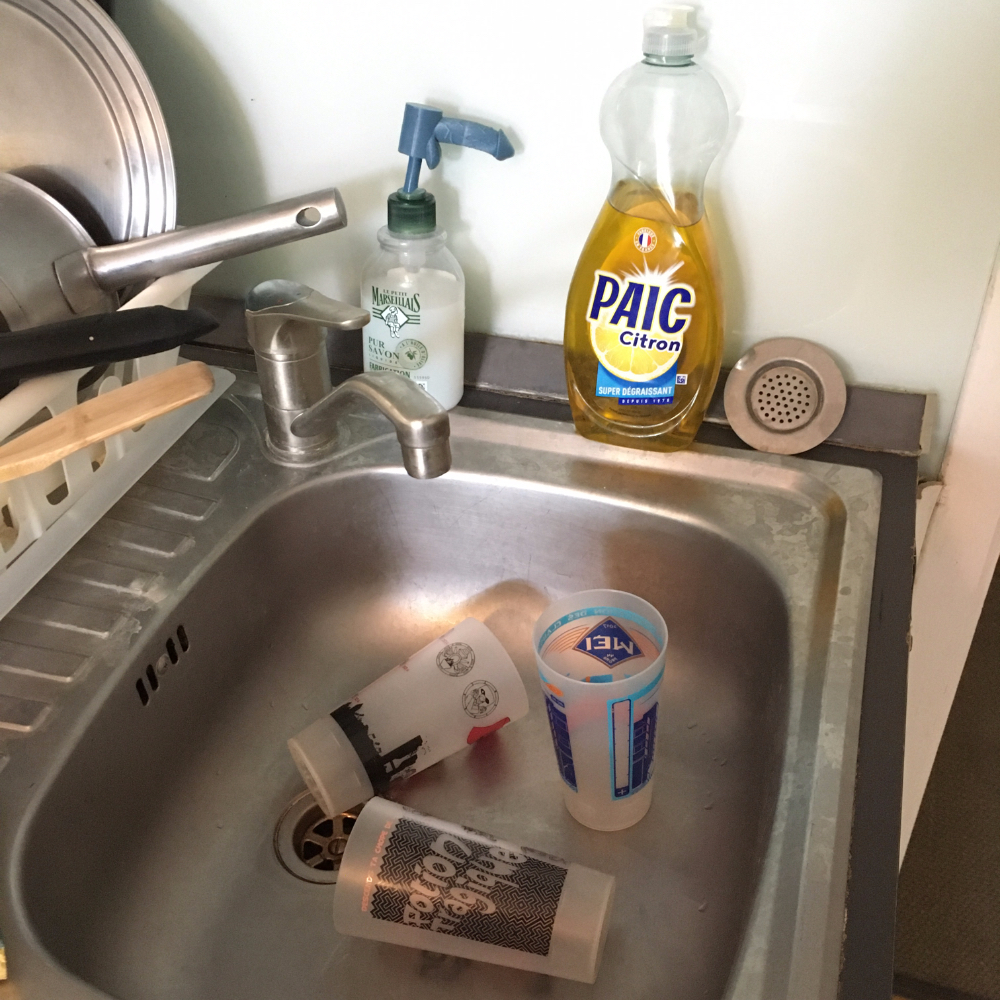ecocup: (332, 797, 616, 984), (286, 617, 529, 820), (532, 589, 669, 831)
